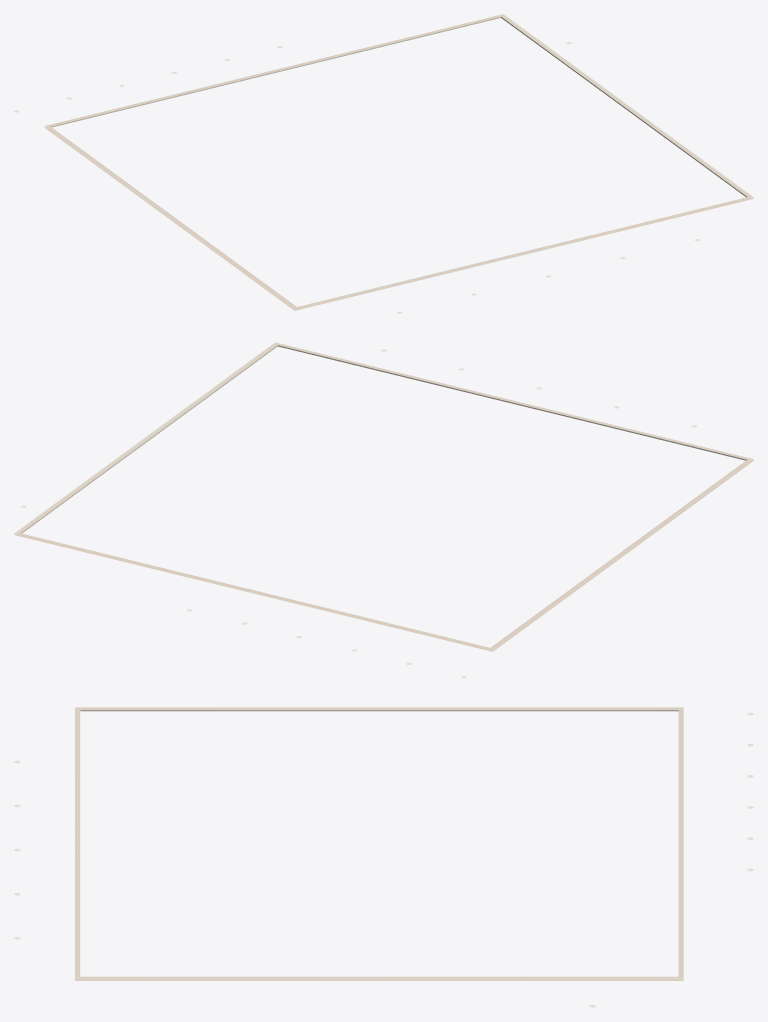
File: CommunityRoomA_CeilingEmiss.fbx
3 renders of one model, top to bottom at view 1: azimuth 30°, elevation 25°; view 2: azimuth 150°, elevation 25°; view 3: azimuth 270°, elevation 25°, orthographic. The views are drawn at different scales.
Parts seen in each view (by area): view 1: CommunityRoomA_CeilingEmiss; view 2: CommunityRoomA_CeilingEmiss; view 3: CommunityRoomA_CeilingEmiss.
Part boxes in pixels (<box>): CommunityRoomA_CeilingEmiss: <box>14,14,753,313</box>; CommunityRoomA_CeilingEmiss: <box>14,342,753,678</box>; CommunityRoomA_CeilingEmiss: <box>14,707,753,1007</box>.
Bounding box in the file's own units: 1169 × 19.24 × 1254.
